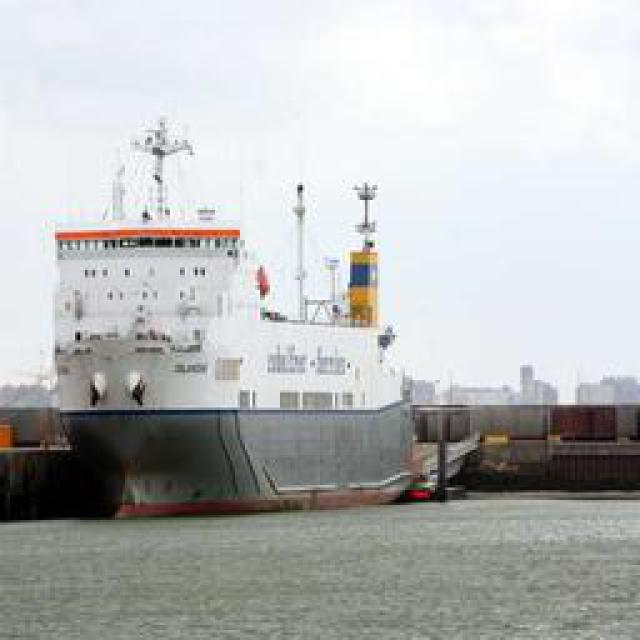Ship: (33, 86, 421, 514)
